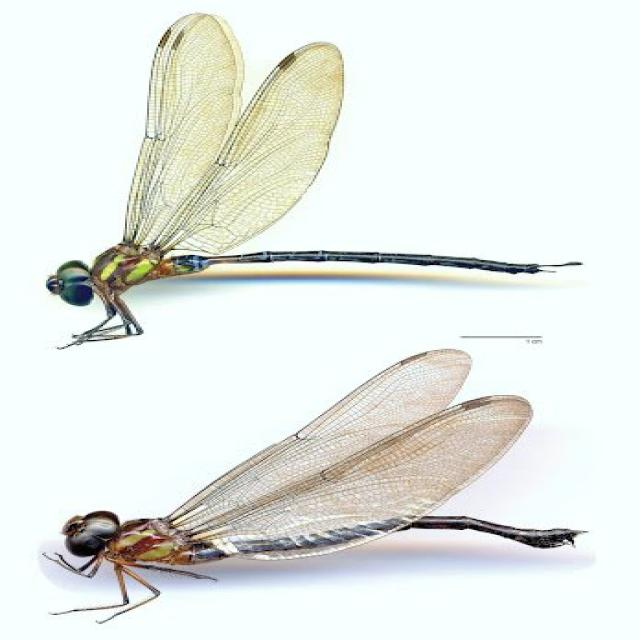dragonfly: (46, 14, 577, 344), (66, 350, 583, 604)
